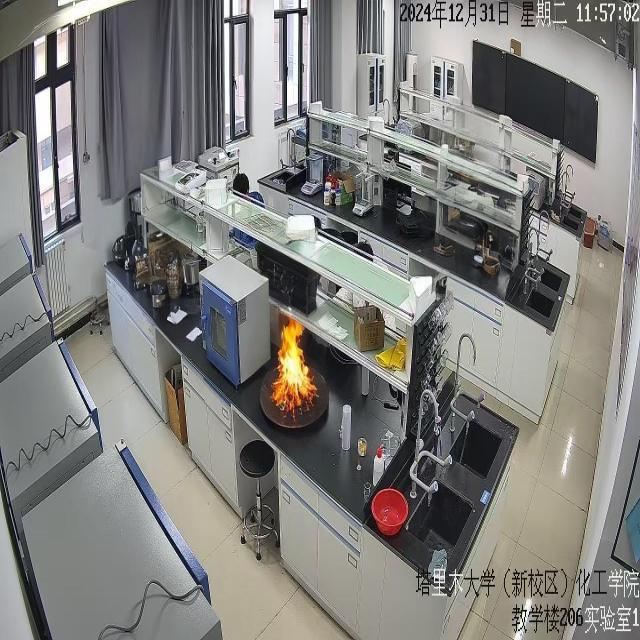smoke: (270, 318, 318, 412)
